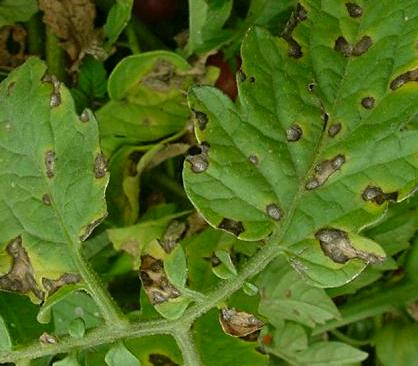Tomato Septoria leaf spot: (183, 0, 418, 303), (0, 50, 116, 324)
